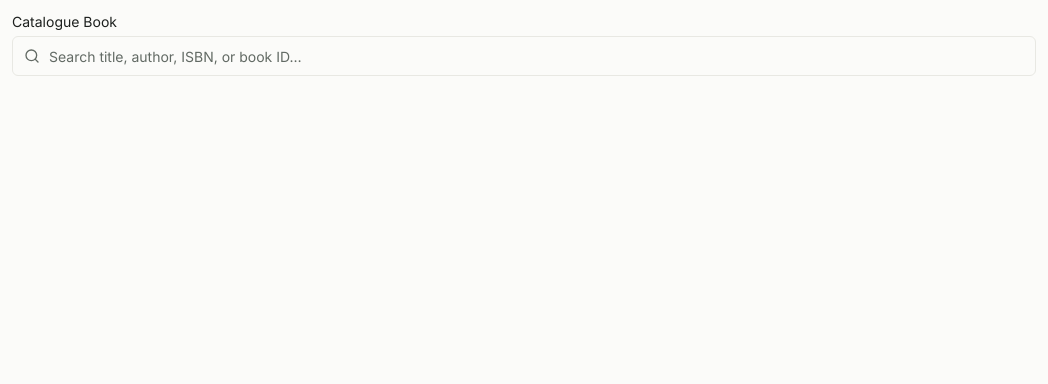
Test: CatalogueSelector › filters archived and PDF-linked RPC matches when only missing PDFs are requested
The width and height of the screenshot is (1048, 384).
In the field named "Catalogue Book": (524, 56) [12,36,1036,76], type "book"
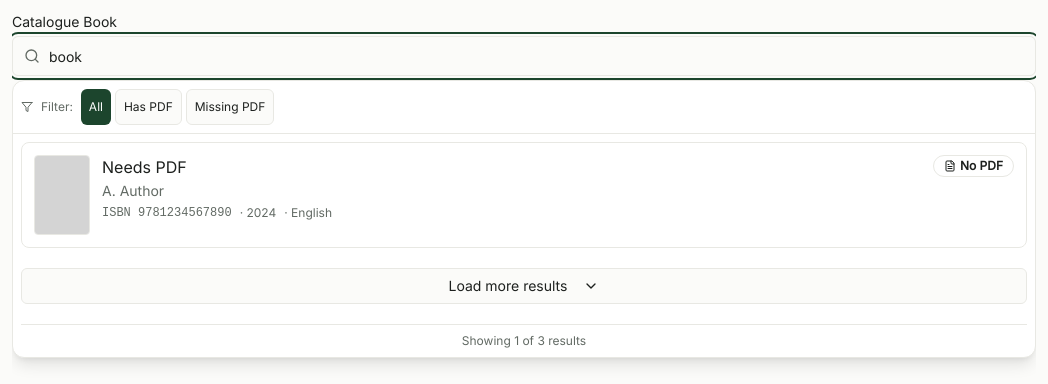
Expected: the option "Needs PDF" is shown, [21,142,1027,248]
